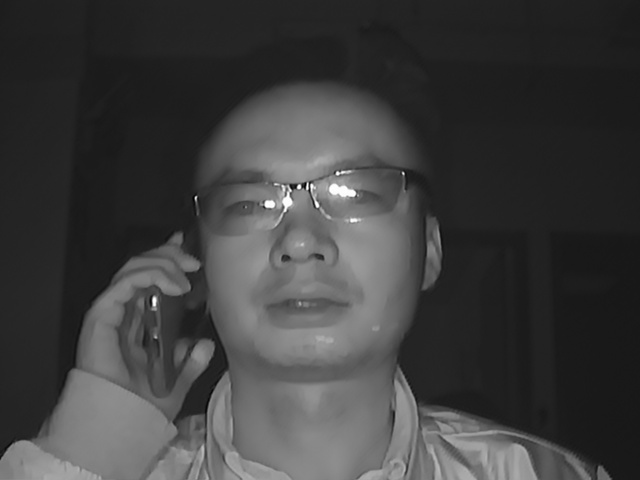hand: (73, 229, 200, 410)
